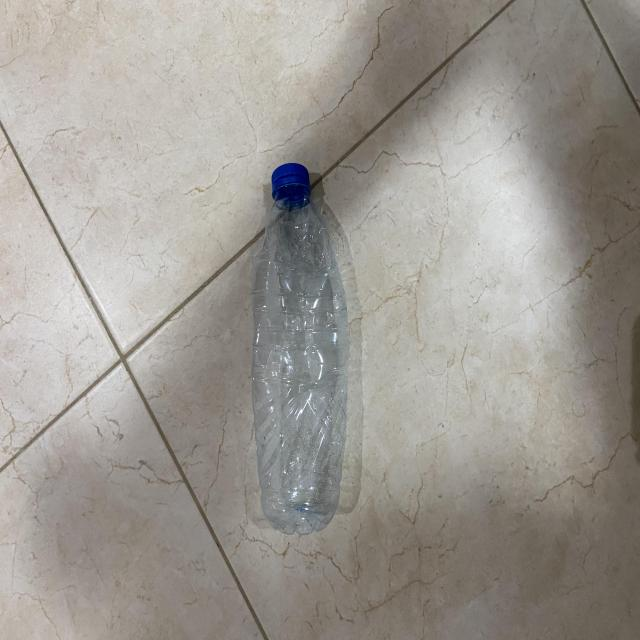bottle: (237, 160, 355, 542)
